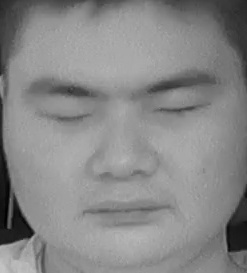blink: (43, 98, 94, 133), (156, 95, 209, 127)
mouth: (84, 190, 171, 234)
